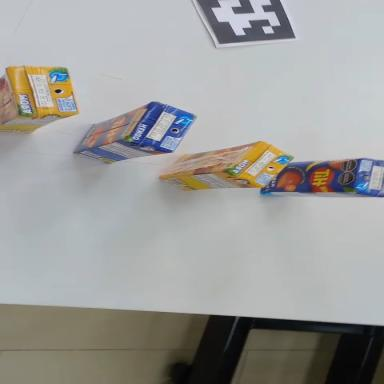HIT-MANGO: (70, 96, 200, 168), (262, 158, 383, 197)
HIT-MORA: (159, 140, 294, 192), (0, 66, 78, 134)
cara_F: (66, 102, 158, 153), (157, 141, 262, 177), (261, 159, 361, 192), (0, 69, 20, 125)
